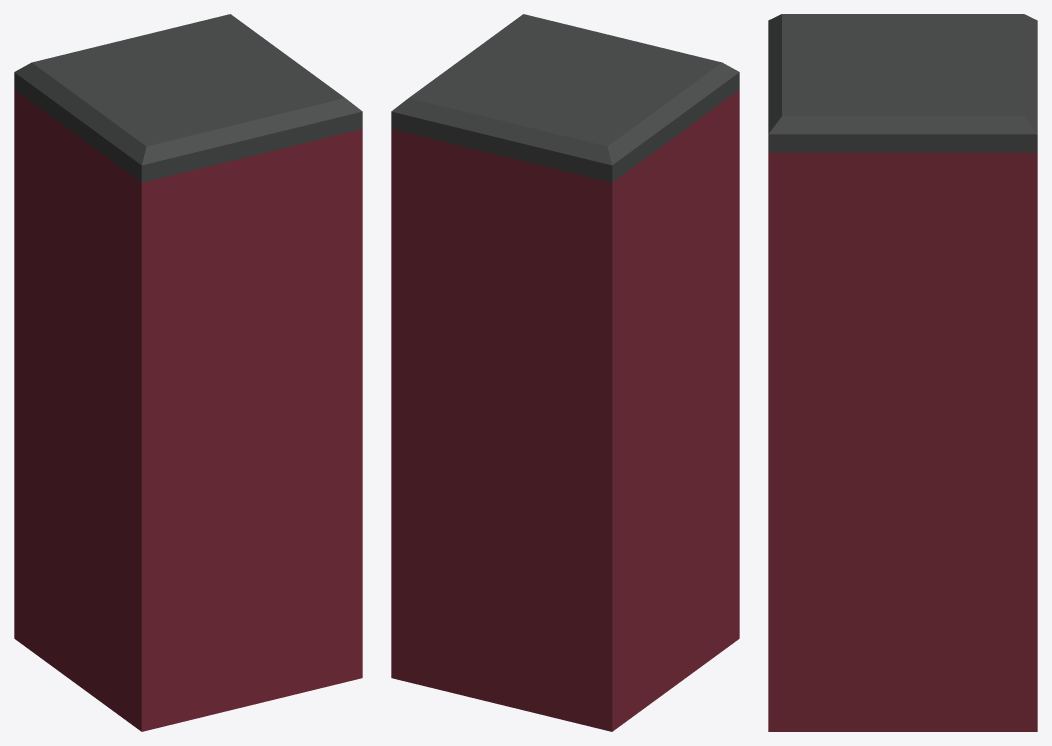
The model's file is Tile_Red_2.fbx.
3 views of the same model, side by side, from view 1: azimuth 30°, elevation 25°; view 2: azimuth 150°, elevation 25°; view 3: azimuth 270°, elevation 25° (orthographic). The views are drawn at different scales.
Visible parts, largest first — view 1: Cube; view 2: Cube; view 3: Cube.
Boxes of the visible parts, x1,y1,x2,y2 form: Cube: [14, 14, 362, 731]; Cube: [391, 14, 739, 731]; Cube: [768, 14, 1037, 731].
Size of the model in its own units: 2 by 5 by 2.
